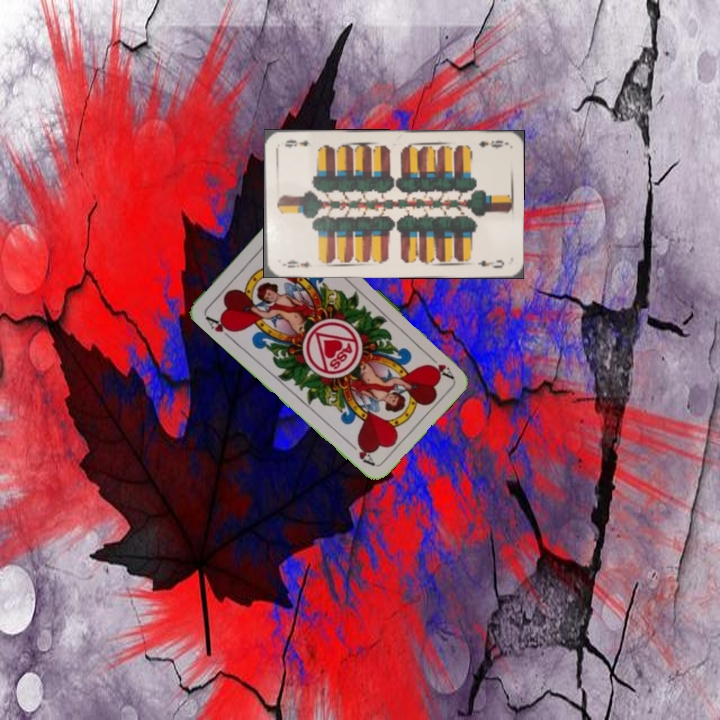E9: (278, 256, 314, 270), (475, 136, 508, 150)
HA: (201, 311, 238, 342), (422, 349, 456, 381)
